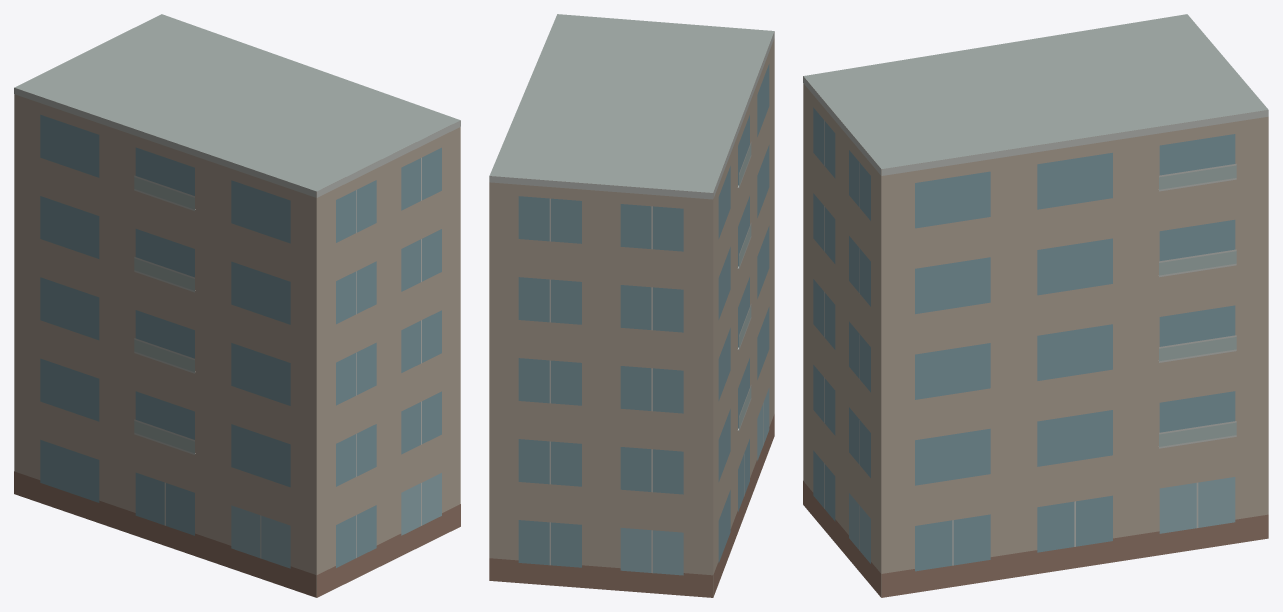
Rendered from survey-upis-33019322.glb.
3 renders of one model, left to right at view 1: azimuth 30°, elevation 25°; view 2: azimuth 150°, elevation 25°; view 3: azimuth 270°, elevation 25°, orthographic. The views are drawn at different scales.
Parts seen in each view (by area): view 1: survey-upis-33019322.tmp; view 2: survey-upis-33019322.tmp; view 3: survey-upis-33019322.tmp.
Part boxes in pixels (x1=…): survey-upis-33019322.tmp: x1=14, y1=14, x2=460, y2=597; survey-upis-33019322.tmp: x1=489, y1=14, x2=774, y2=597; survey-upis-33019322.tmp: x1=803, y1=14, x2=1268, y2=597.
Size of the model in its own units: 11.85 by 15.25 by 15.02.
